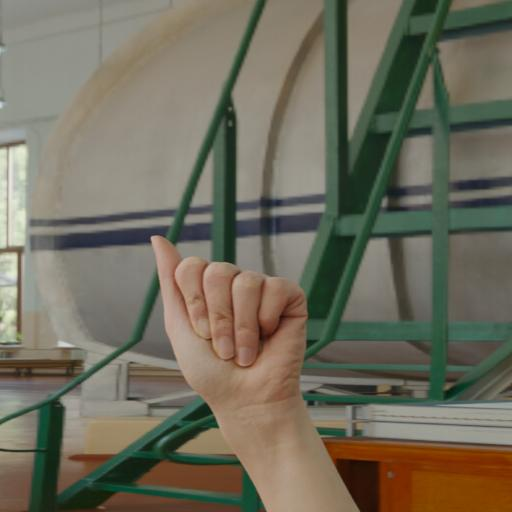A: (128, 217, 331, 428)
